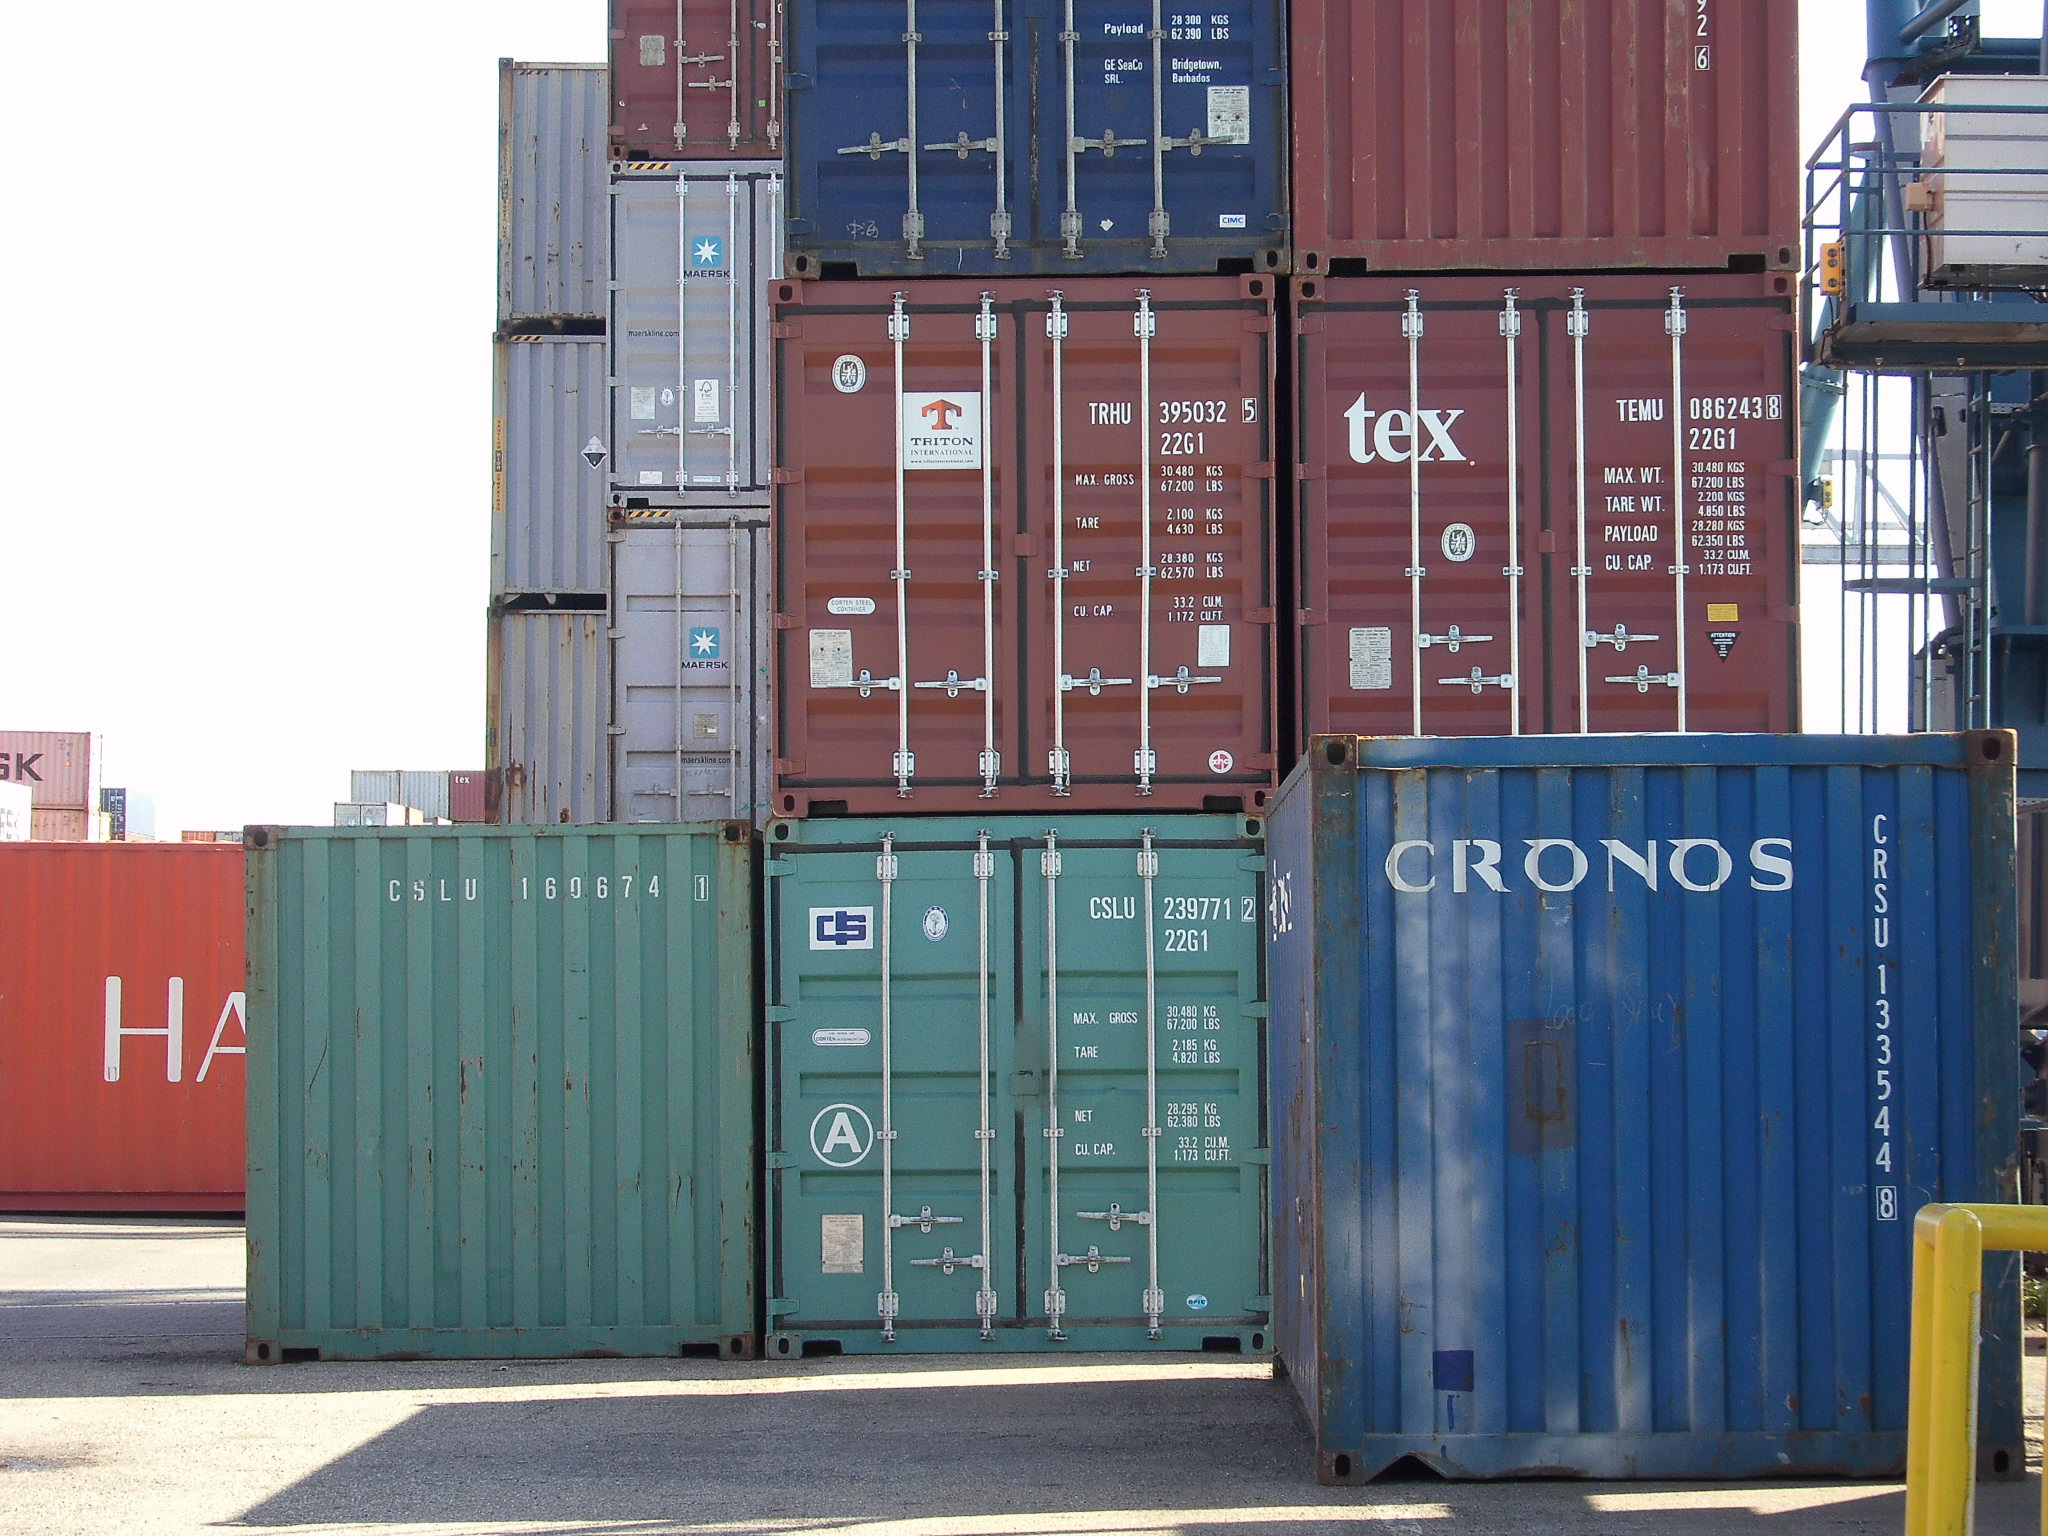container_door: (772, 816, 1268, 1379), (777, 278, 1284, 808), (1293, 265, 1779, 729)
container_no_door: (1326, 744, 2048, 1501), (247, 820, 756, 1363)
